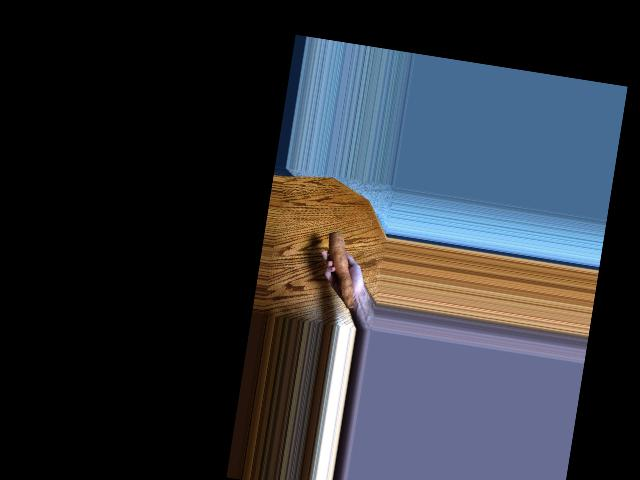sweet_potato: (316, 229, 366, 311)
